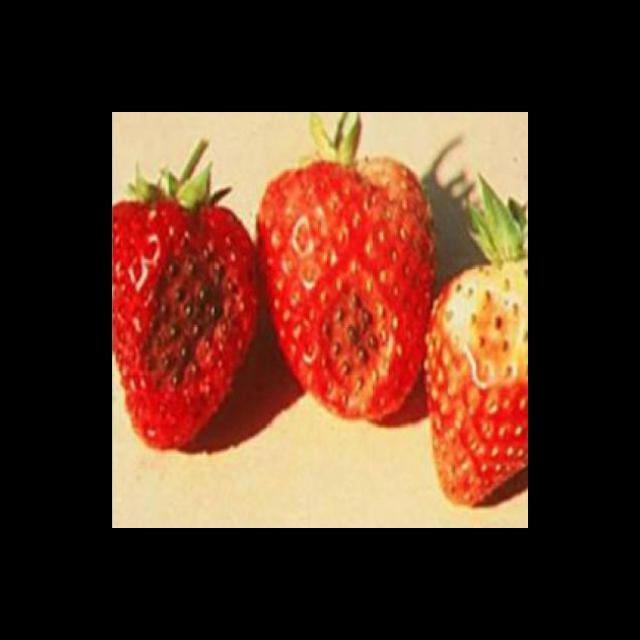Anthracnose Fruit Rot: (136, 232, 240, 391), (316, 277, 396, 405)
